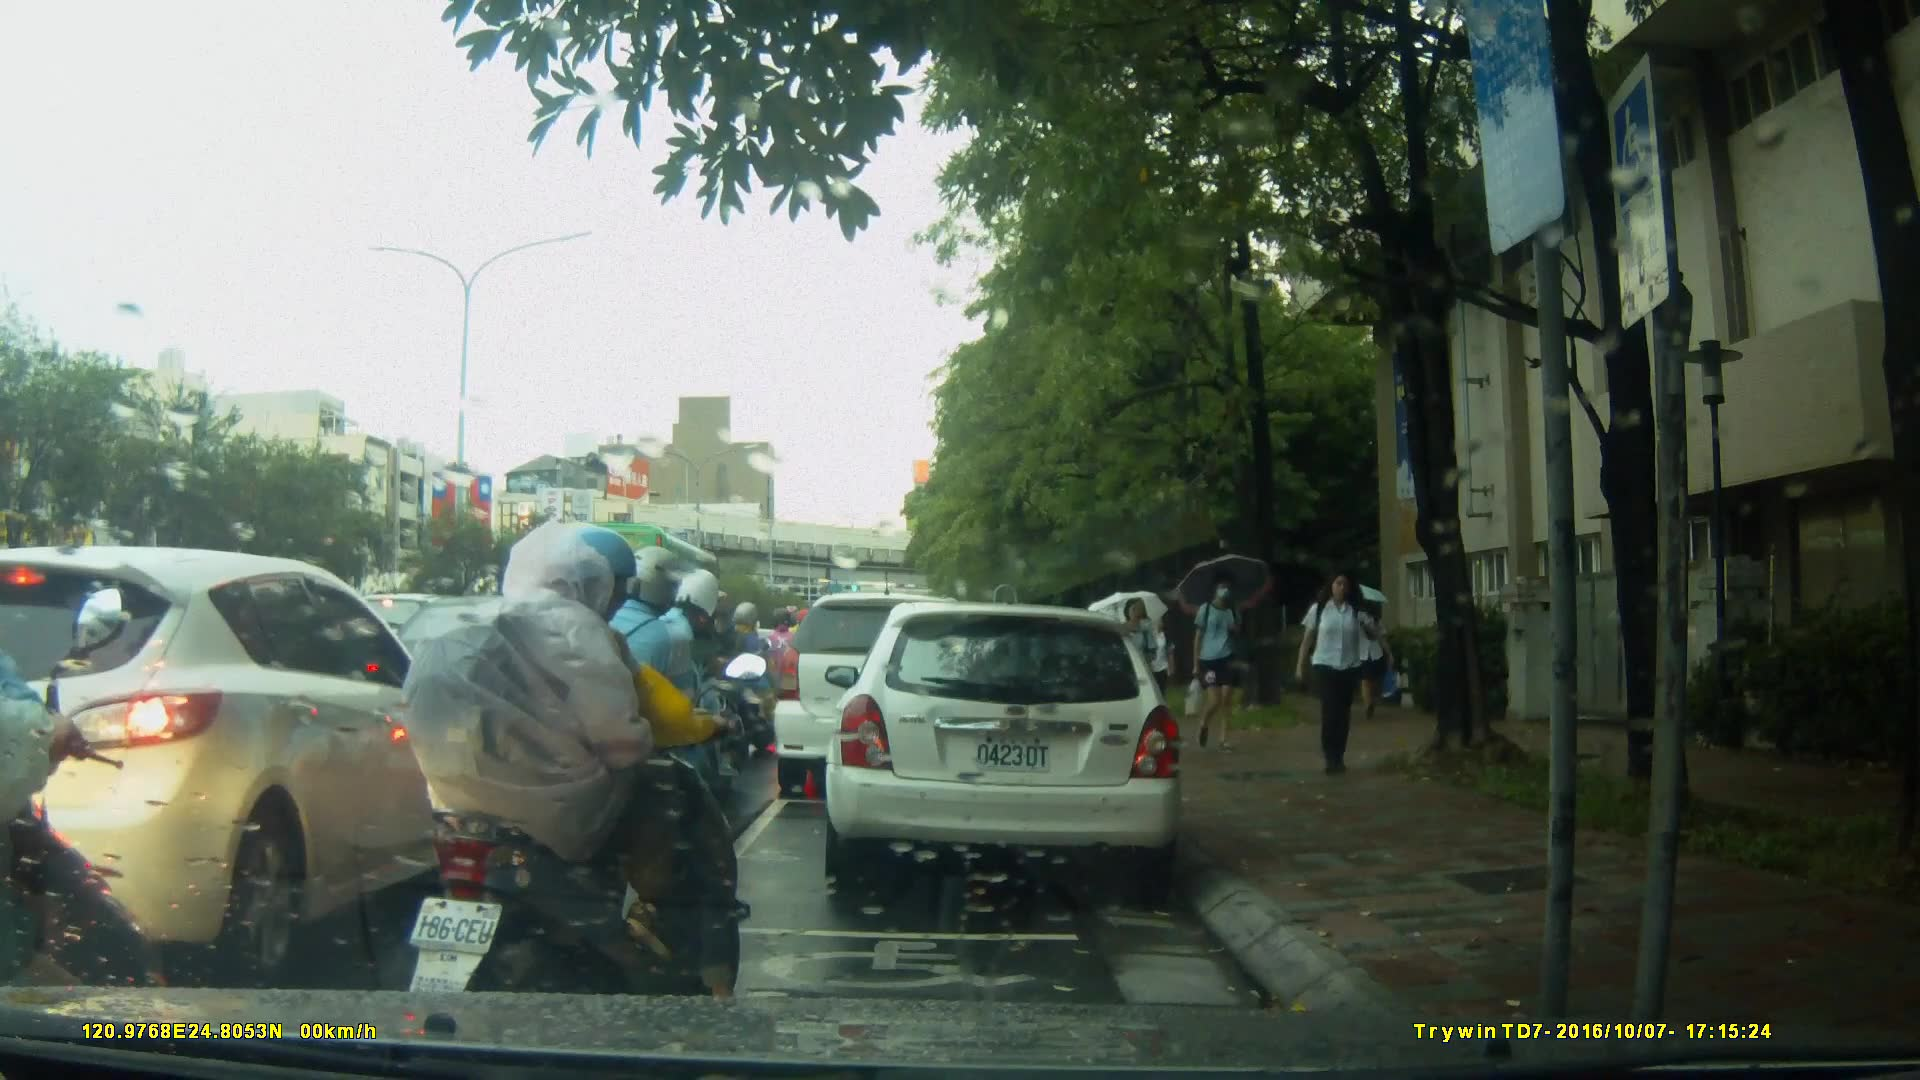pedestrian: (1299, 563, 1377, 782), (1179, 573, 1252, 764), (1108, 600, 1157, 719), (1137, 609, 1173, 731)
rider: (413, 529, 762, 1027), (1, 576, 163, 1075), (564, 546, 718, 880), (629, 574, 754, 854), (708, 600, 786, 758), (755, 604, 808, 752)
vehicle: (1, 543, 496, 987), (822, 604, 1186, 882), (774, 595, 995, 802), (554, 519, 739, 666)
